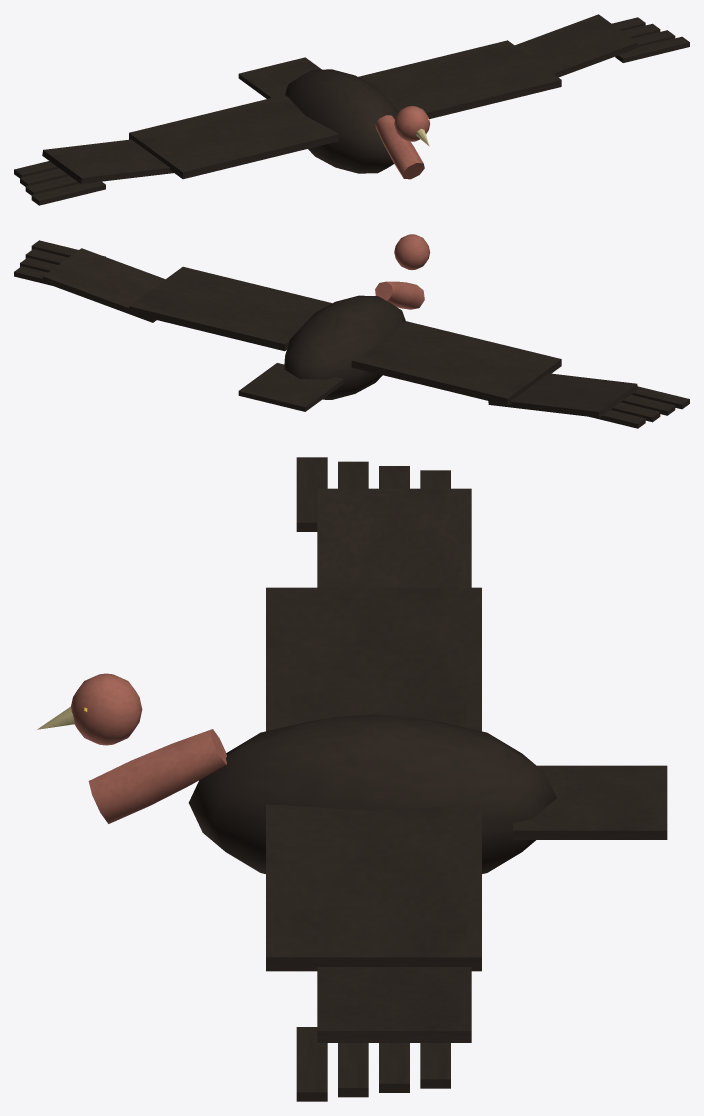
The model's file is enemy_vulture.glb.
3 views of the same model, one above another, from view 1: azimuth 30°, elevation 25°; view 2: azimuth 150°, elevation 25°; view 3: azimuth 270°, elevation 25° (orthographic). The views are drawn at different scales.
Visible parts, largest first — view 1: wingL, wingR, object 4, head; view 2: wingL, wingR, object 4, head; view 3: wingR, object 4, wingL, head.
Boxes of the visible parts, <box> form: wingL: <box>14,94,338,205</box>; wingR: <box>358,14,689,118</box>; object 4: <box>238,57,424,179</box>; head: <box>394,106,429,146</box>; wingL: <box>351,321,689,428</box>; wingR: <box>14,240,332,351</box>; object 4: <box>238,281,424,411</box>; head: <box>394,234,430,270</box>; wingR: <box>266,805,481,1101</box>; object 4: <box>88,714,667,873</box>; wingL: <box>266,457,481,731</box>; head: <box>37,673,142,745</box>.
Bounding box in the file's own units: 2.92 × 0.438 × 1.23.
Materials: 2 (1 with a texture image).
